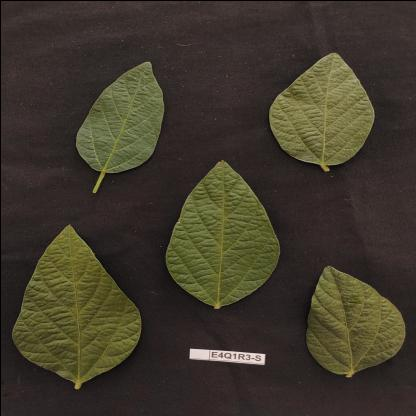label: (184, 338, 271, 372)
leaflets: (6, 220, 150, 393), (162, 158, 286, 318), (297, 249, 411, 386), (262, 51, 384, 171), (68, 56, 168, 180)
